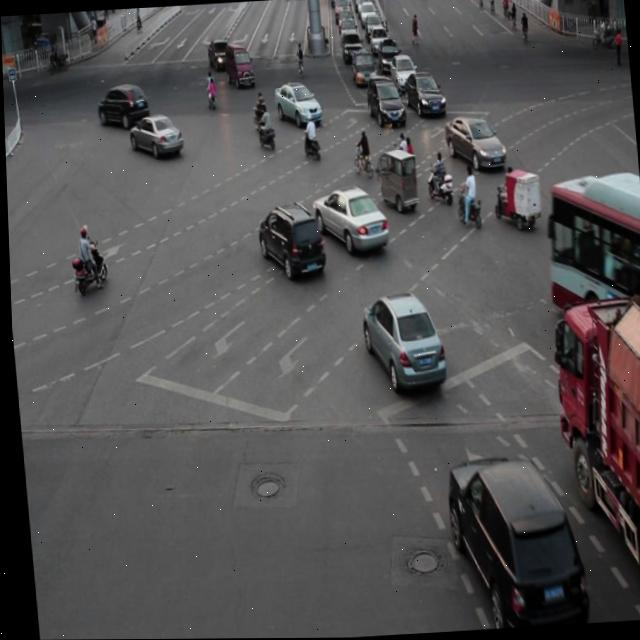bus: (545, 295, 640, 624)
car: (439, 447, 583, 632), (357, 290, 445, 394), (309, 181, 387, 255), (254, 199, 324, 281), (441, 111, 505, 175), (126, 110, 184, 160), (94, 82, 150, 129), (365, 75, 405, 129)
van: (538, 171, 640, 328)
